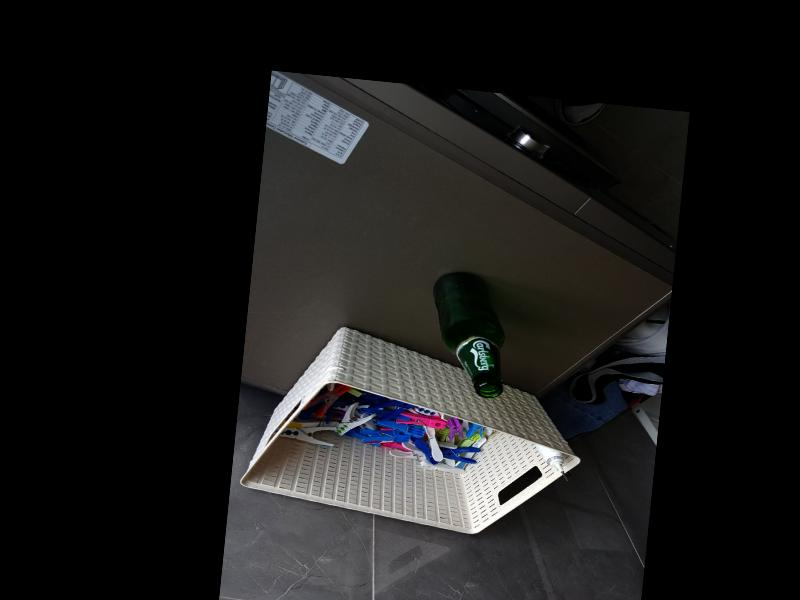Beer: (423, 269, 513, 399)
